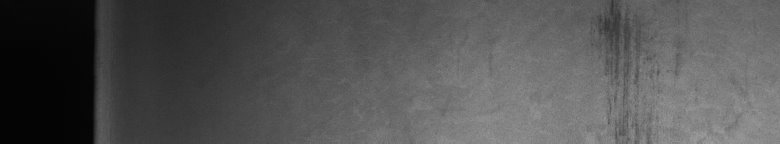ka: (588, 4, 680, 136)
